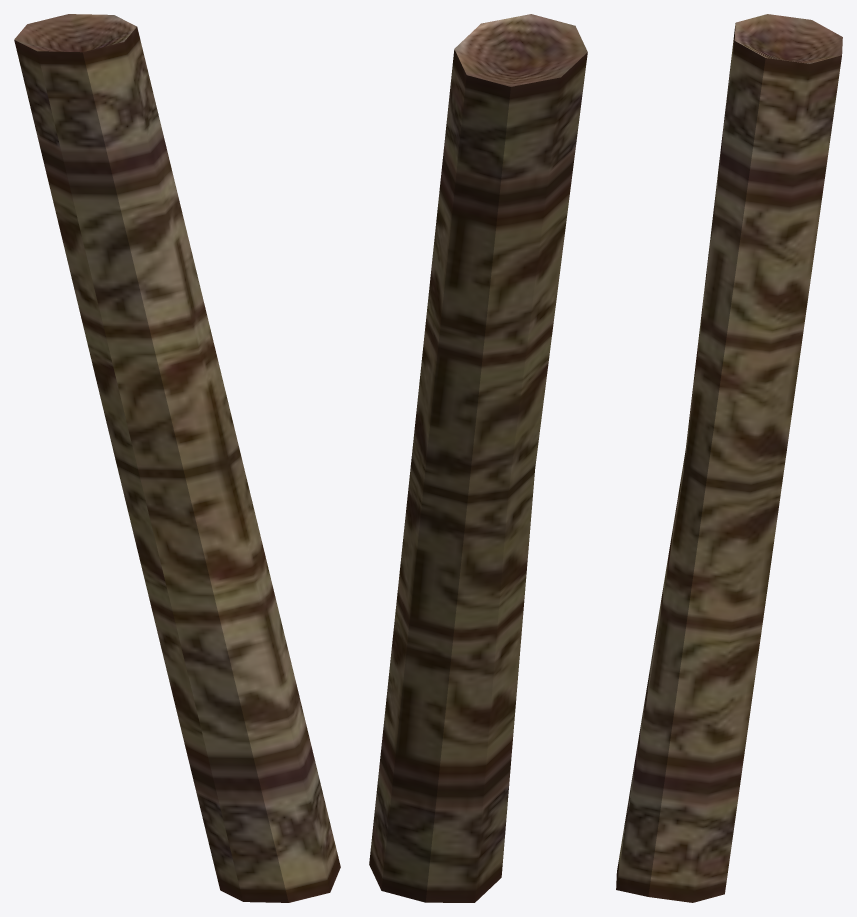
File: rug-rolled.glb
3 renders of one model, left to right at view 1: azimuth 30°, elevation 25°; view 2: azimuth 150°, elevation 25°; view 3: azimuth 270°, elevation 25°, orthographic. The views are drawn at different scales.
Parts seen in each view (by area): view 1: rug-rolled; view 2: rug-rolled; view 3: rug-rolled.
Boxes of the visible parts, x1,y1,x2,y2 form: rug-rolled: (14,14,340,902); rug-rolled: (369,14,587,902); rug-rolled: (616,14,842,902).
Bounding box in the file's own units: 0.4686 × 1.58 × 0.4092.
1 material, 1 textured.
